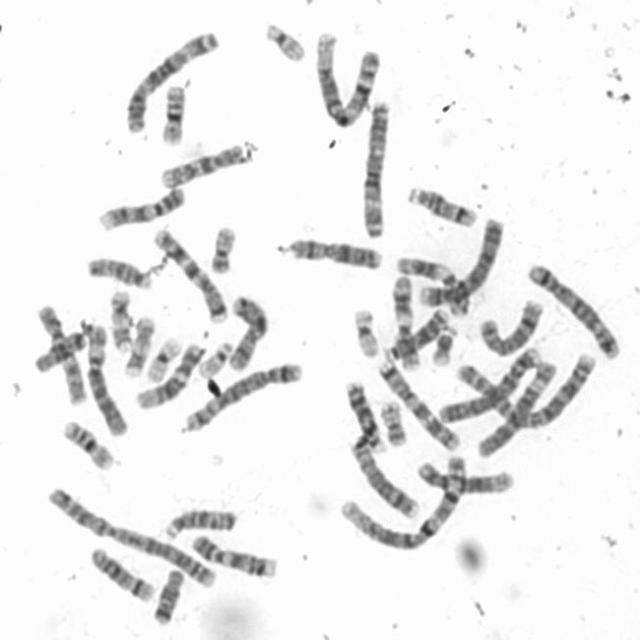A1: (334, 450, 470, 552), (309, 26, 382, 128)
A2: (41, 482, 220, 590), (447, 347, 600, 431)
A3: (120, 24, 222, 134), (356, 95, 395, 240)
B4: (432, 341, 546, 426), (415, 212, 507, 309)
B5: (525, 258, 622, 361), (178, 356, 304, 435)
C10: (32, 298, 88, 406), (156, 138, 251, 190)
C11: (392, 250, 473, 318), (389, 270, 423, 372)
C12: (132, 339, 206, 411), (412, 457, 516, 498)
C6: (472, 354, 559, 460), (82, 319, 132, 437)
C7: (373, 354, 462, 452), (149, 223, 230, 324)
C8: (348, 436, 420, 521), (474, 292, 546, 358)
C9: (95, 180, 189, 232), (186, 530, 279, 581)
D13: (384, 304, 452, 364), (340, 376, 385, 454)
D14: (86, 542, 158, 604), (400, 180, 480, 230)
D15: (159, 503, 240, 541), (84, 252, 156, 289)
E16: (59, 414, 116, 472), (156, 79, 189, 147)
E17: (120, 312, 157, 378), (106, 285, 137, 354)
E18: (30, 327, 90, 375), (147, 562, 187, 626)
F19: (141, 333, 182, 383), (349, 302, 382, 358)
F20: (375, 396, 410, 448), (206, 220, 239, 275)
G21: (426, 321, 461, 368)
G22: (260, 16, 309, 64), (194, 337, 233, 379)
X: (222, 289, 270, 373), (284, 232, 385, 271)
